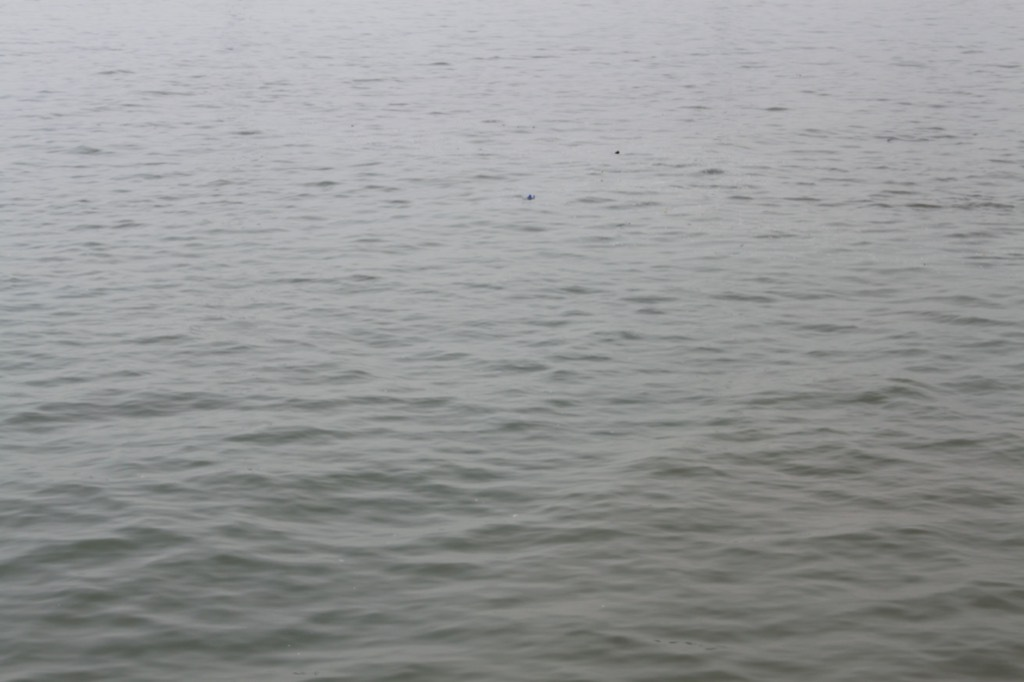plastic: (517, 187, 542, 204), (612, 147, 622, 156), (348, 122, 356, 130), (530, 123, 538, 130), (887, 137, 894, 144)
